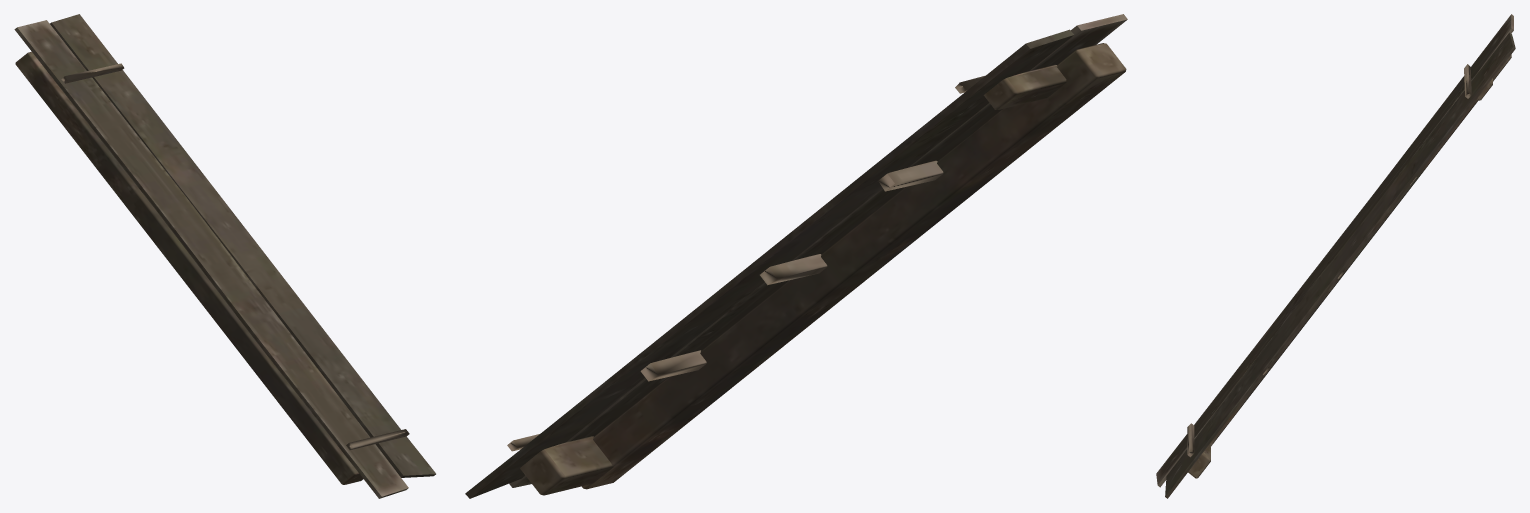
Rendered from roof.triangle.frontier.up.right.line.glb.
3 renders of one model, left to right at view 1: azimuth 30°, elevation 25°; view 2: azimuth 210°, elevation 25°; view 3: azimuth 270°, elevation 25°, orthographic. The views are drawn at different scales.
Visible parts, largest first — view 1: model; view 2: model; view 3: model.
Boxes of the visible parts, box(x1,y1,x2,y2) form: model: box(14, 14, 435, 498); model: box(465, 14, 1127, 498); model: box(1156, 14, 1515, 498).
Size of the model in its own units: 2.25 by 3.38 by 2.93.
Materials: 1 (1 with a texture image).
